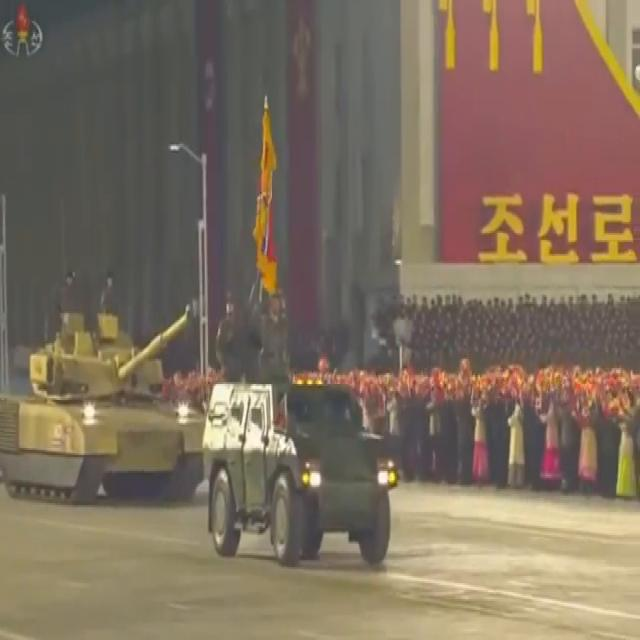north tank: (0, 269, 231, 553)
